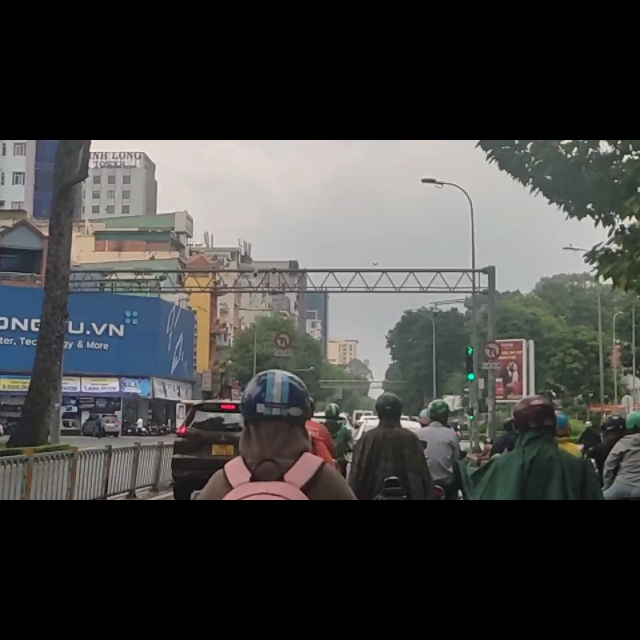bien_cam: (273, 339, 292, 371), (484, 356, 501, 389)
